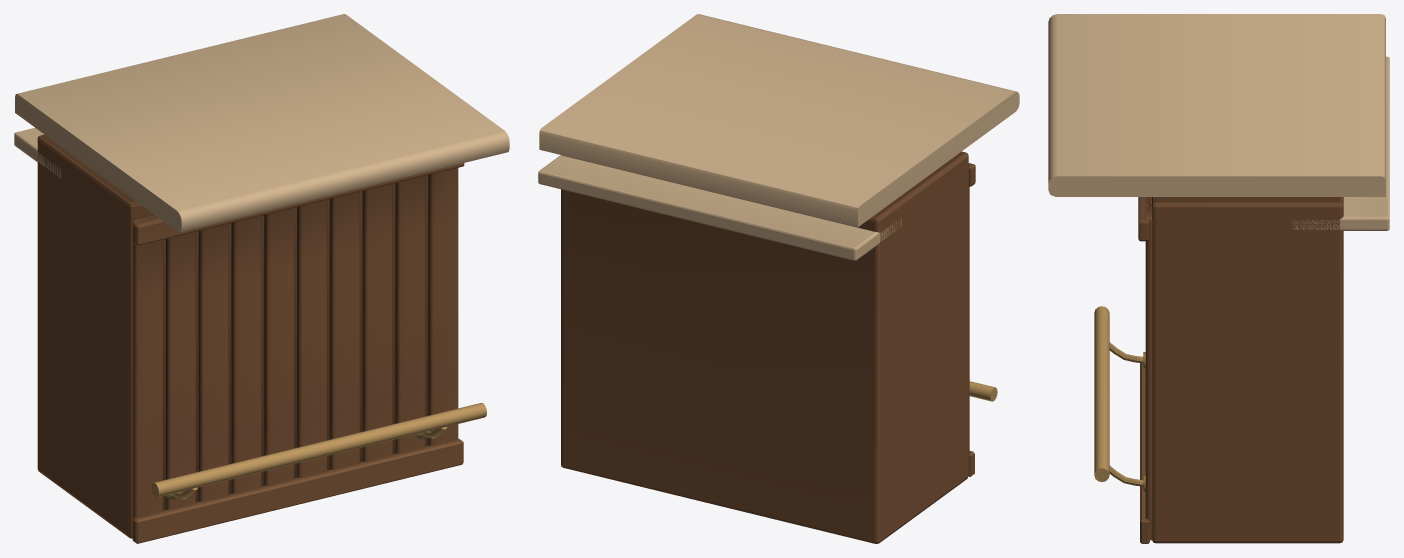
The model's file is barSegment.glb.
3 renders of one model, left to right at view 1: azimuth 30°, elevation 25°; view 2: azimuth 150°, elevation 25°; view 3: azimuth 270°, elevation 25°, orthographic. The views are drawn at different scales.
Visible parts, largest first — view 1: body; view 2: body; view 3: body.
Part boxes in pixels (<box>): body: <box>14,14,509,543</box>; body: <box>538,14,1019,543</box>; body: <box>1048,14,1389,543</box>.
Size of the model in its own units: 1 by 1.06 by 0.89.
